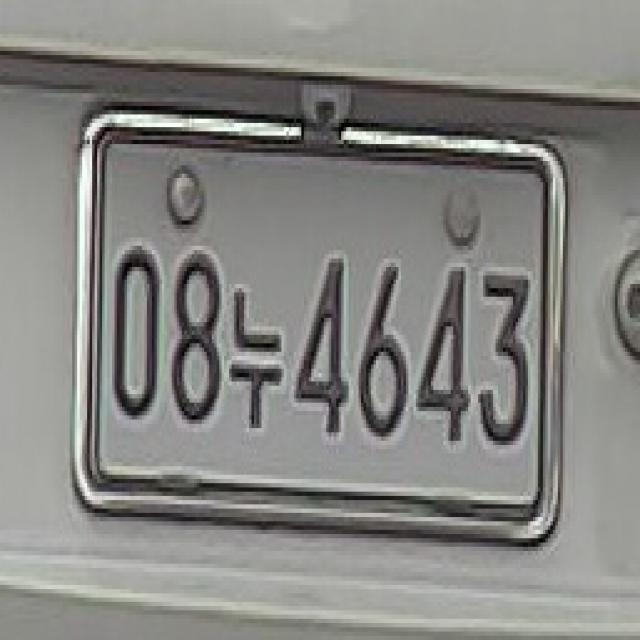0: (111, 238, 163, 439)
3: (478, 258, 533, 458)
4: (294, 238, 354, 451), (416, 258, 476, 464)
6: (358, 248, 412, 461)
8: (168, 240, 224, 440)
license_plate: (76, 105, 575, 562)
nu: (228, 262, 286, 454)
